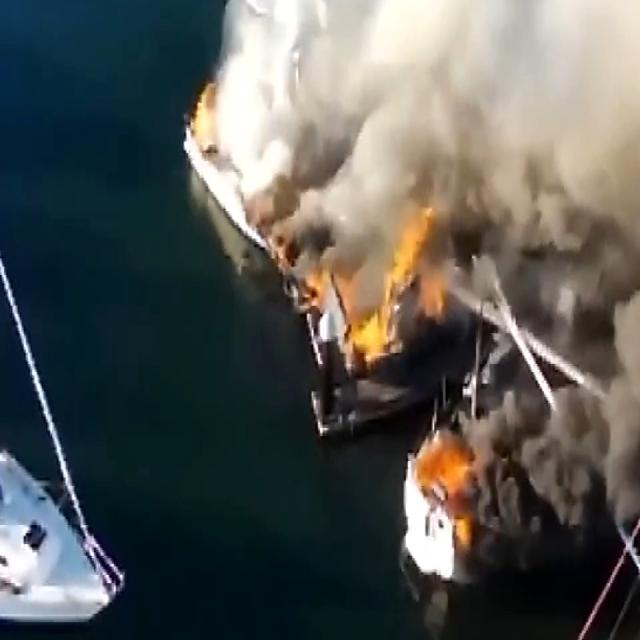fire: (332, 229, 426, 399), (424, 433, 468, 541)
smoke: (350, 0, 640, 181), (490, 349, 640, 545)
